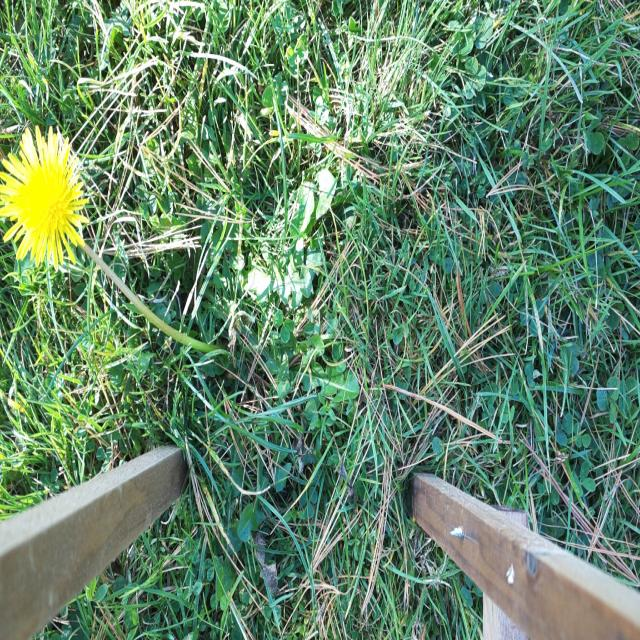base: (214, 336, 242, 376)
